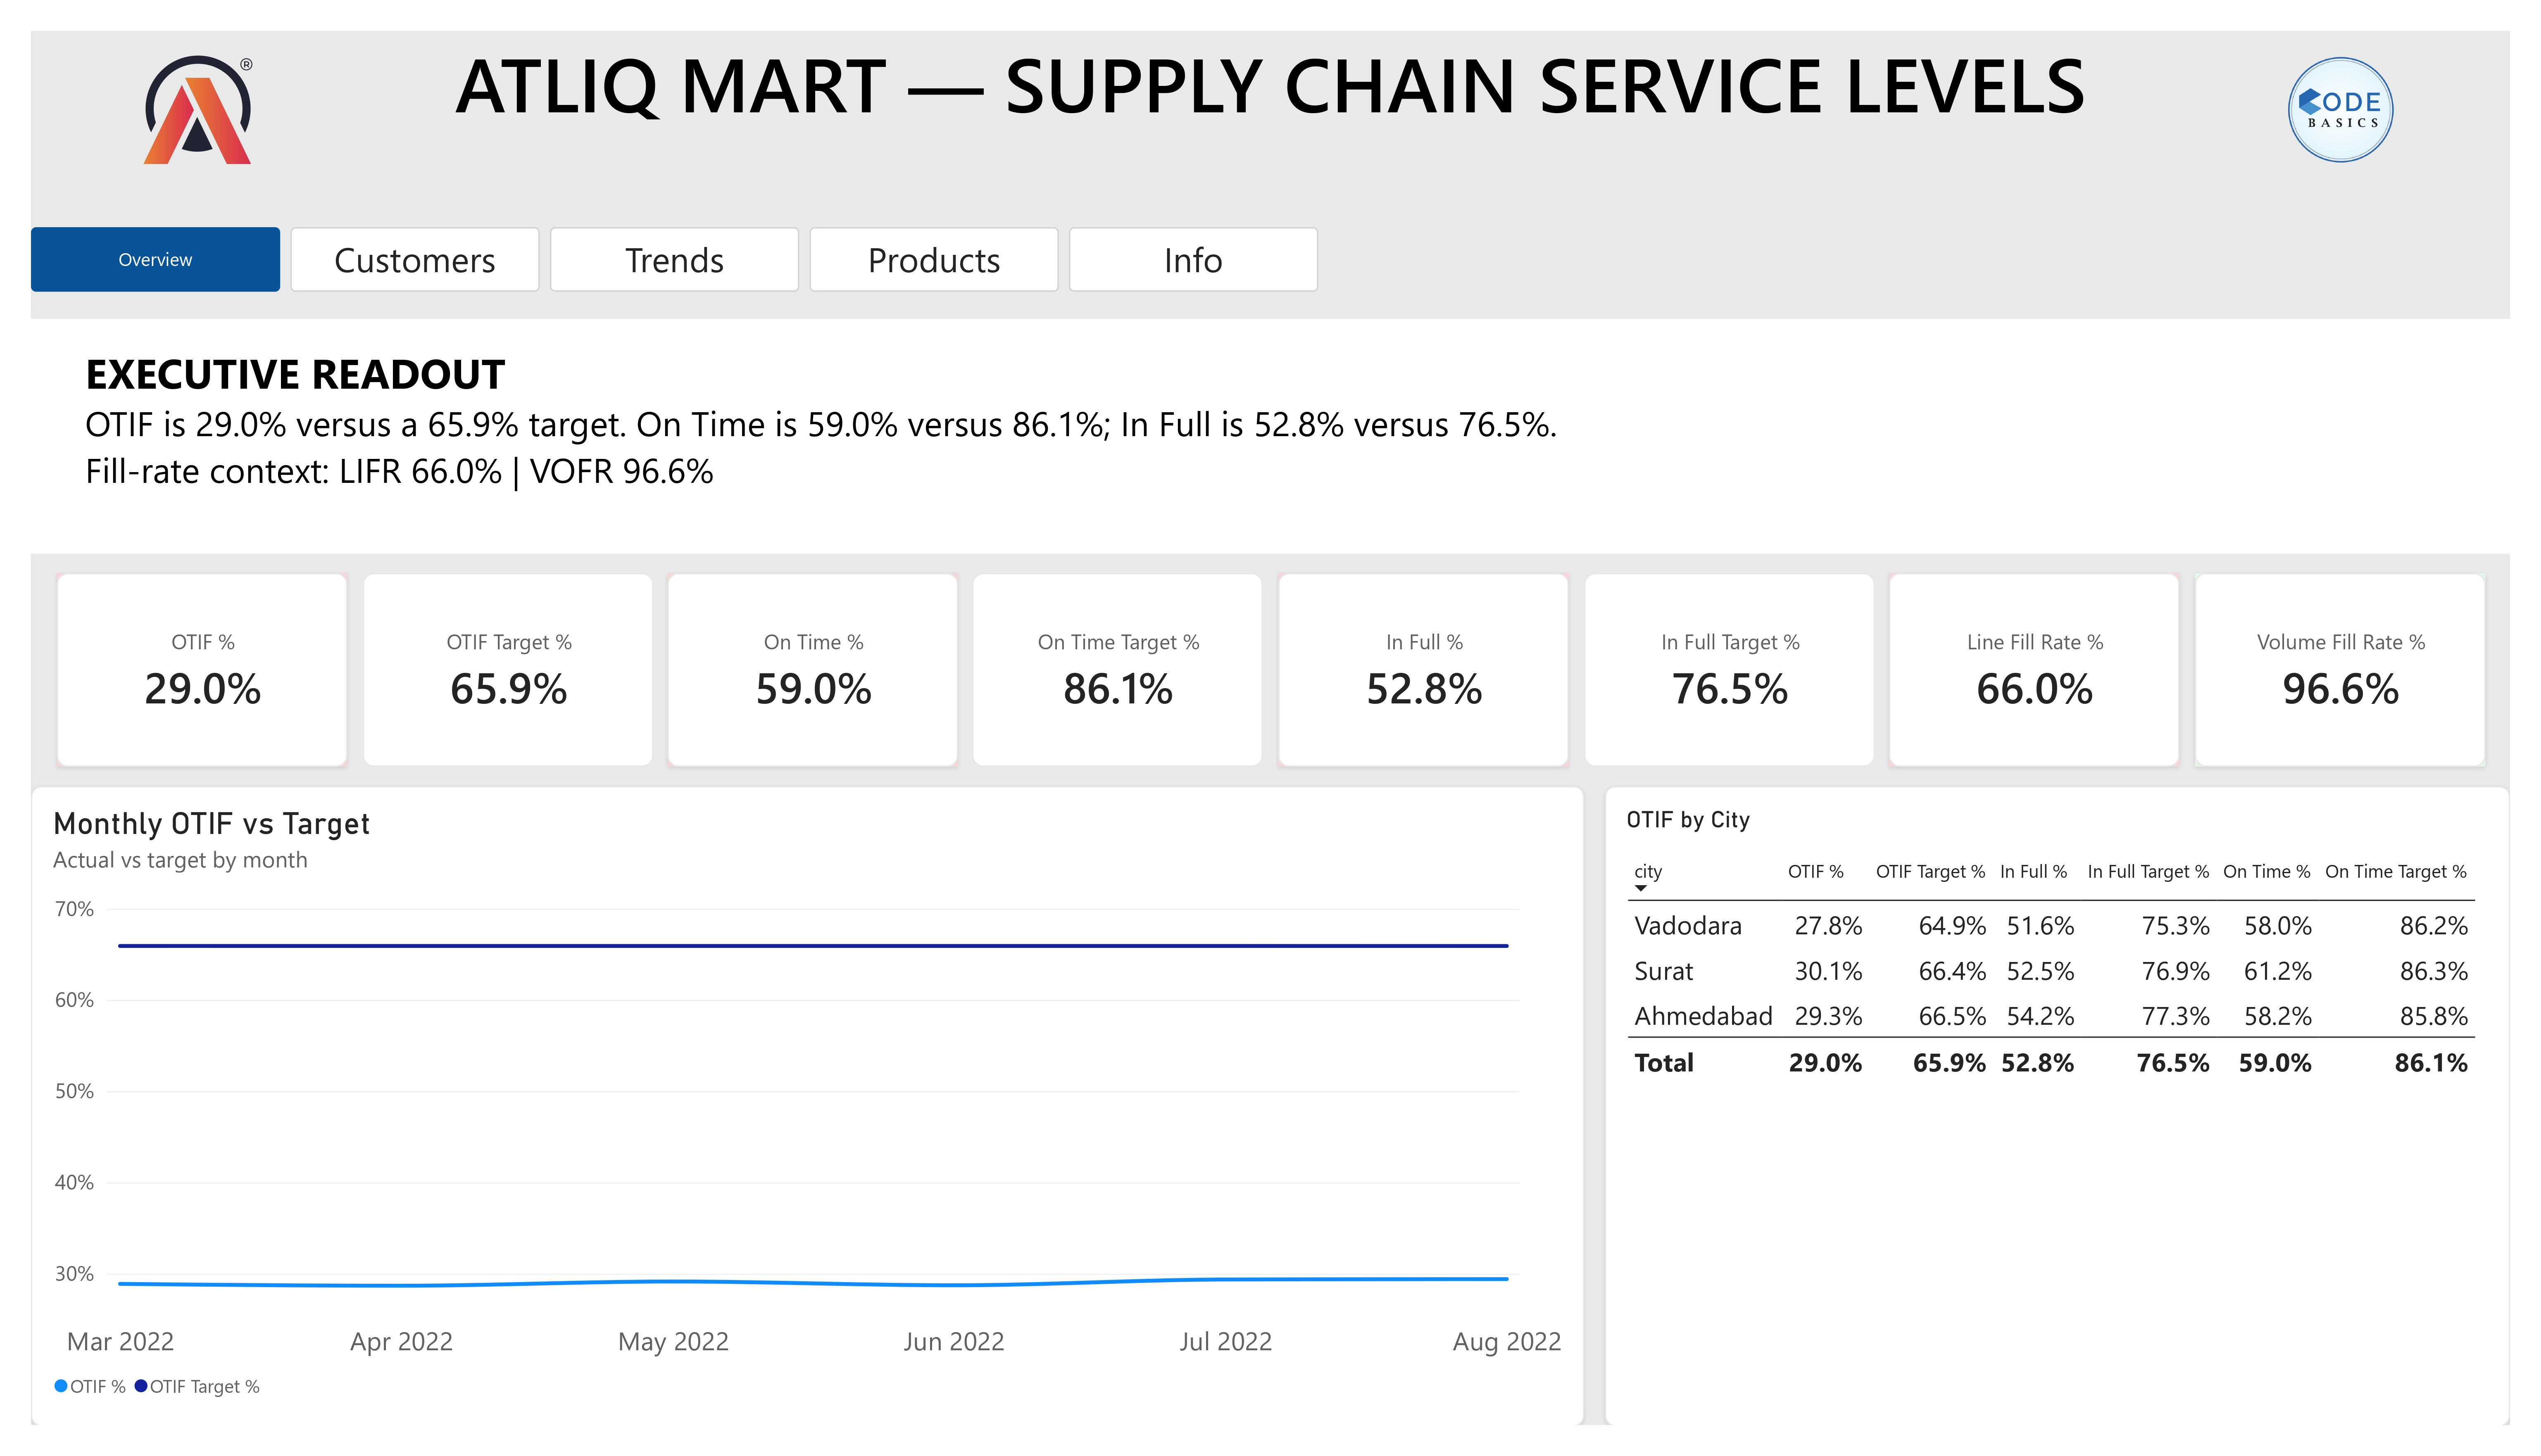

The dashboard page shown, as its layout file describes it:
{"tool":"powerbi","page":{"name":"Overview ","canvas":[1920,1080],"ordinal":1},"visuals":[{"type":"image","box":[0,16.9,259.7,87],"z":0},{"type":"image","box":[1658.4,16.9,261,88.3],"z":1000},{"type":"textbox","box":[0,0,1920,122.9],"z":2000},{"type":"textbox","box":[0,222.7,1920,181.9],"z":3000},{"type":"cardVisual","fields":{"Data":["Measures table.OTIF %"]},"box":[19.8,420.4,225,150],"z":4000},{"type":"cardVisual","fields":{"Data":["Measures table.On Time %"]},"box":[493,420.4,225,150],"z":5000},{"type":"cardVisual","fields":{"Data":["Measures table.In Full %"]},"box":[966,420.4,225,150],"z":6000},{"type":"cardVisual","fields":{"Data":["Measures table.Line Fill Rate %"]},"box":[1439,420.4,225,150],"z":7000},{"type":"cardVisual","fields":{"Data":["Measures table.Volume Fill Rate %"]},"box":[1676.2,420.4,225,150],"z":8000},{"type":"lineChart","title":"Monthly OTIF vs Target","fields":{"Category":["dim_date.mmm_yy"],"Y":["Measures table.OTIF %","Measures table.OTIF Target %"]},"box":[0,585.1,1203.1,495.5],"z":9000},{"type":"tableEx","title":"OTIF by City","fields":{"Values":["dim_customers.city","Measures table.OTIF %","Measures table.OTIF Target %","Measures table.In Full %","Measures table.In Full Target %","Measures table.On Time %","Measures table.On Time Target %"]},"box":[1218.9,585.1,701.1,495.5],"z":10000},{"type":"pageNavigator","box":[0,151.5,1000,50],"z":12000},{"type":"cardVisual","fields":{"Data":["Measures table.OTIF Target %"]},"box":[257,420.4,225,150],"z":13000},{"type":"cardVisual","fields":{"Data":["Measures table.On Time Target %"]},"box":[729,420.4,225,150],"z":14000},{"type":"cardVisual","fields":{"Data":["Measures table.In Full Target %"]},"box":[1203,420.4,225,150],"z":15000}]}

Visuals, with their boxes on the page's 1920x1080 design canvas (x1, y1, x2, y2). These are canvas units, not pixel positions in the 2541x1456 screenshot, which may show the page scaled, cropped or inside an application window:
image: bbox(0, 17, 260, 104)
image: bbox(1658, 17, 1919, 105)
textbox: bbox(0, 0, 1920, 123)
textbox: bbox(0, 223, 1920, 405)
cardVisual - Measures table.OTIF %: bbox(20, 420, 245, 570)
cardVisual - Measures table.On Time %: bbox(493, 420, 718, 570)
cardVisual - Measures table.In Full %: bbox(966, 420, 1191, 570)
cardVisual - Measures table.Line Fill Rate %: bbox(1439, 420, 1664, 570)
cardVisual - Measures table.Volume Fill Rate %: bbox(1676, 420, 1901, 570)
"Monthly OTIF vs Target" lineChart: bbox(0, 585, 1203, 1081)
"OTIF by City" tableEx: bbox(1219, 585, 1920, 1081)
pageNavigator: bbox(0, 152, 1000, 202)
cardVisual - Measures table.OTIF Target %: bbox(257, 420, 482, 570)
cardVisual - Measures table.On Time Target %: bbox(729, 420, 954, 570)
cardVisual - Measures table.In Full Target %: bbox(1203, 420, 1428, 570)
